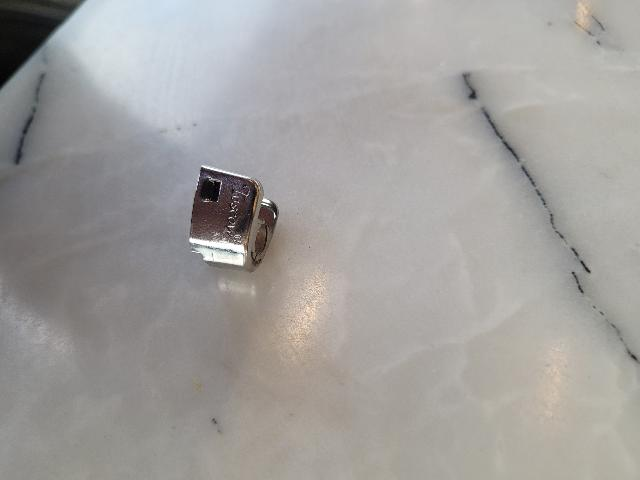Metal: (187, 162, 279, 277)
